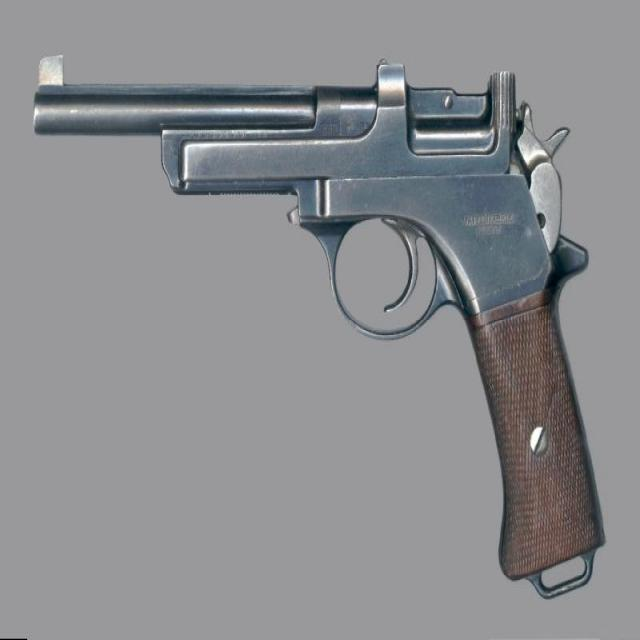pistol: (26, 46, 608, 616)
